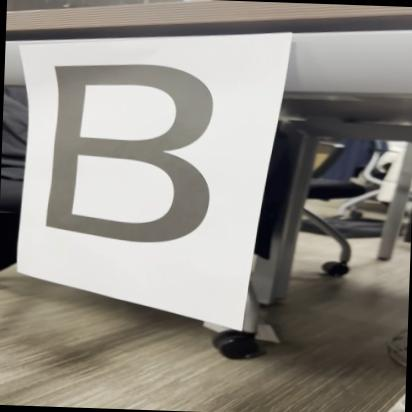seat: (39, 56, 223, 260)
